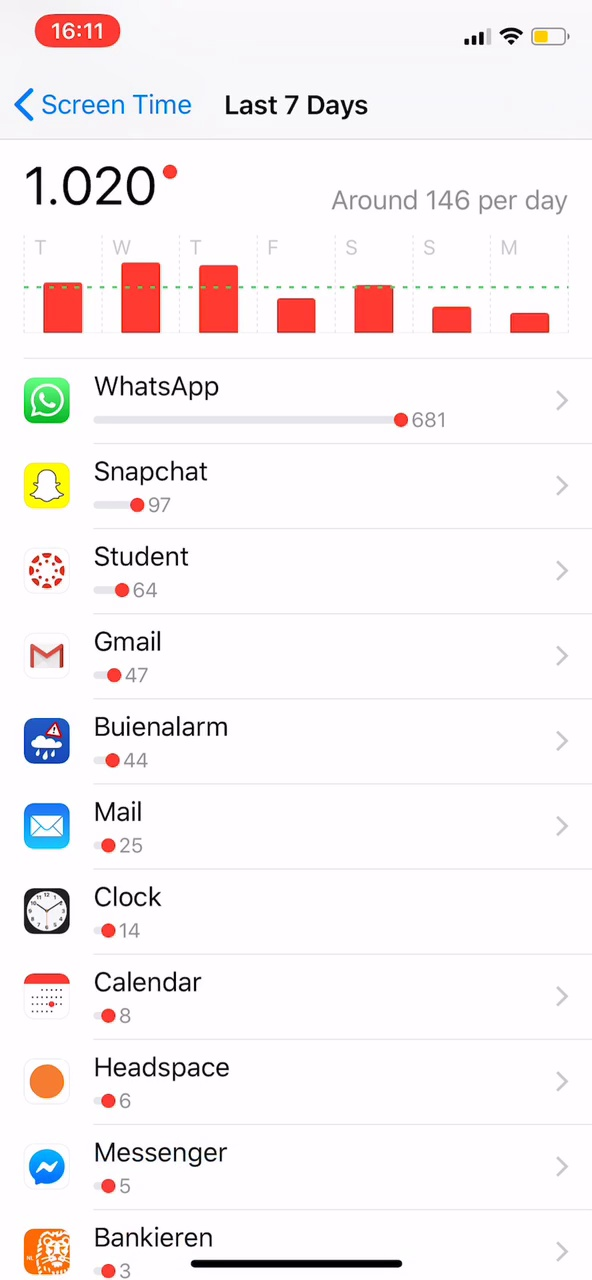not_app: (17, 360, 504, 444), (17, 700, 365, 786), (15, 863, 304, 955), (17, 447, 343, 527), (12, 1121, 293, 1211), (17, 532, 334, 611), (18, 617, 323, 697), (18, 789, 320, 867), (14, 953, 257, 1041), (12, 1041, 268, 1124)
week: (215, 89, 376, 122)
